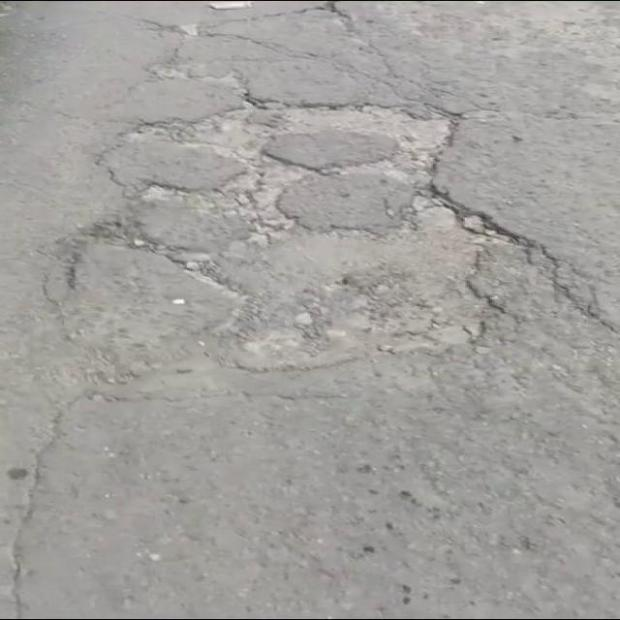lubang: (62, 107, 508, 388)
